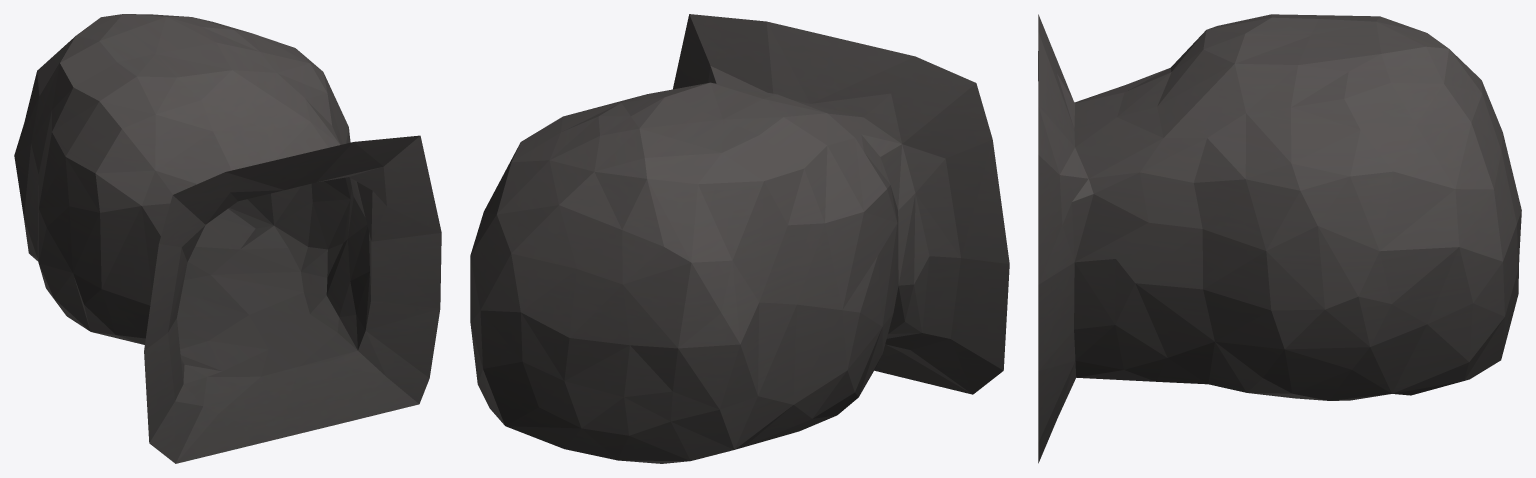
Rendered from ZLP_Cave_A_14.FBX.
3 renders of one model, left to right at view 1: azimuth 30°, elevation 25°; view 2: azimuth 150°, elevation 25°; view 3: azimuth 270°, elevation 25°, orthographic. The views are drawn at different scales.
Parts seen in each view (by area): view 1: ZLP_Cave_A_14; view 2: ZLP_Cave_A_14; view 3: ZLP_Cave_A_14.
Boxes of the visible parts, bbox=[...] form: ZLP_Cave_A_14: bbox=[14, 14, 441, 463]; ZLP_Cave_A_14: bbox=[470, 14, 1009, 463]; ZLP_Cave_A_14: bbox=[1038, 14, 1521, 463].
Size of the model in its own units: 1409 by 1286 by 1605.
